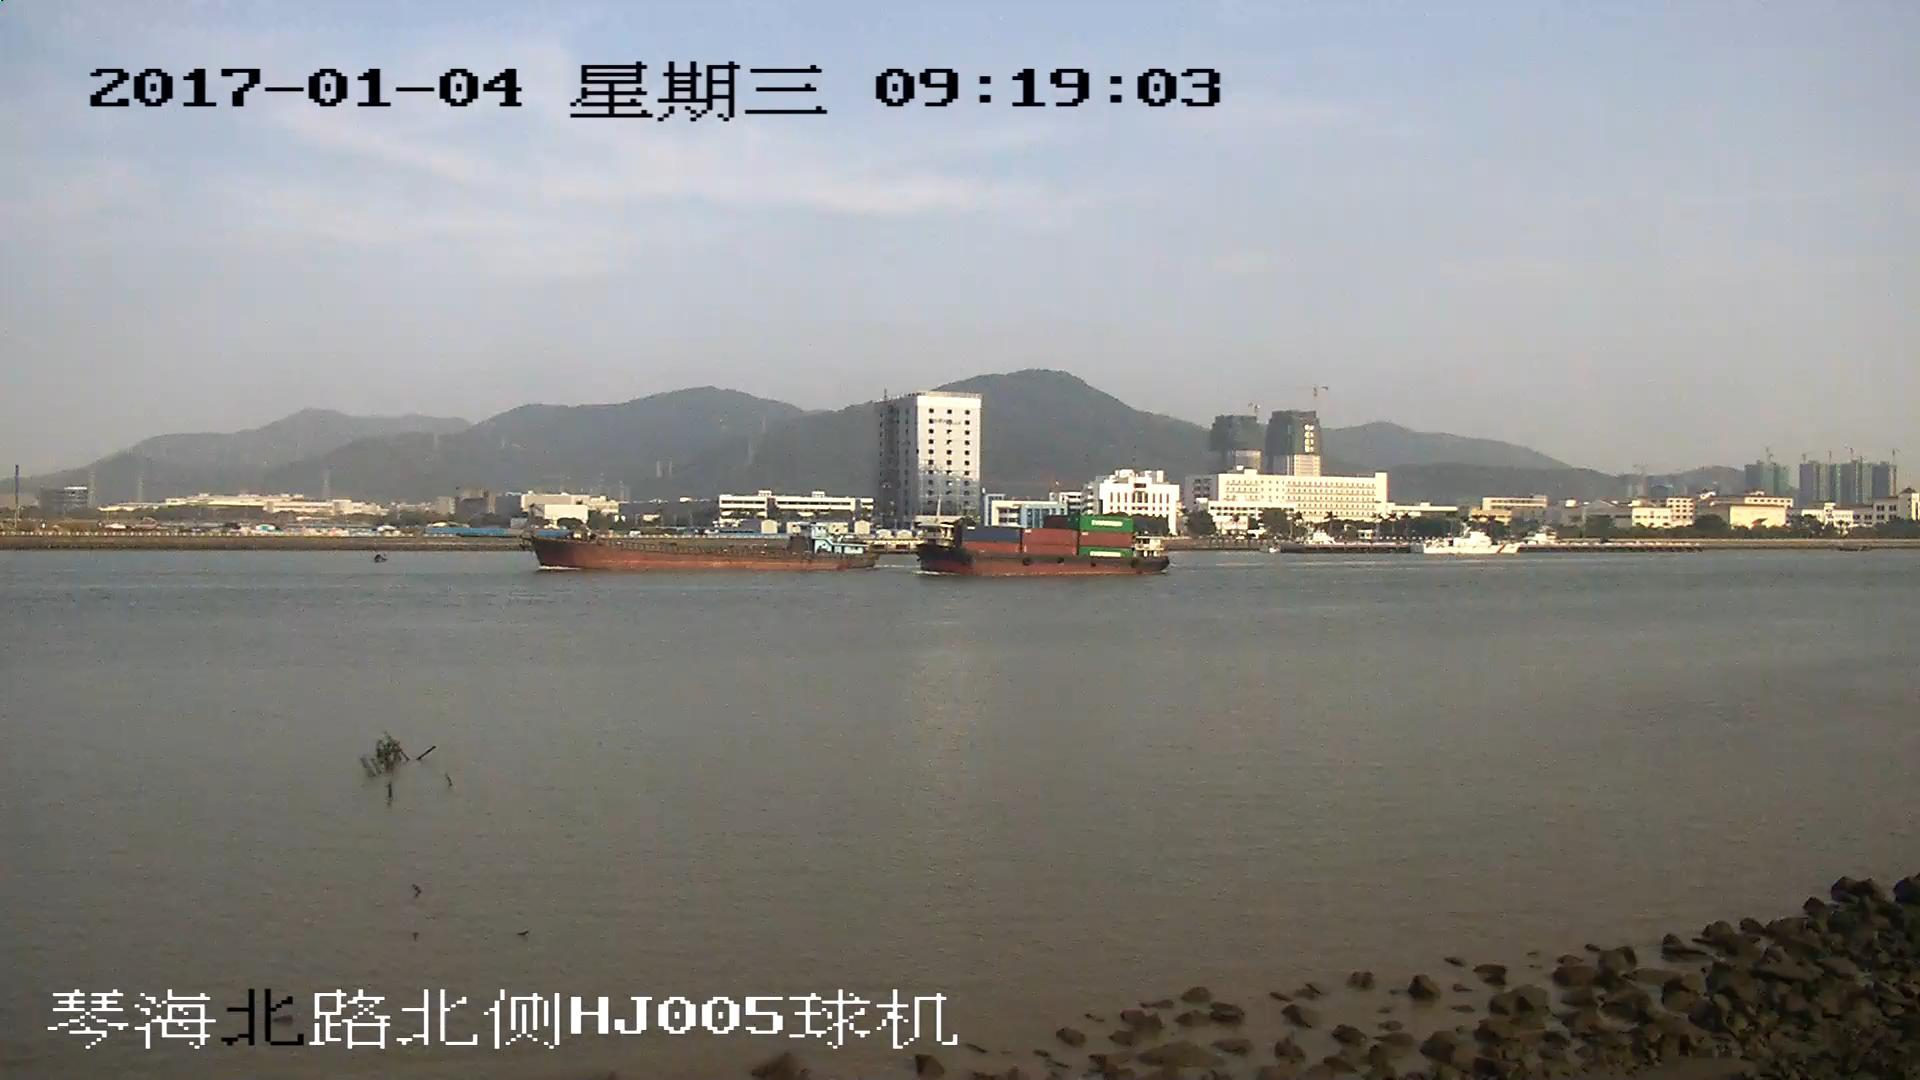Ship: (529, 525, 878, 574), (922, 513, 1162, 575)
